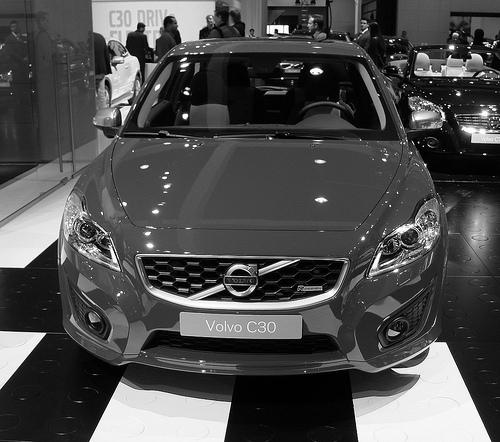car: (58, 46, 454, 393)
